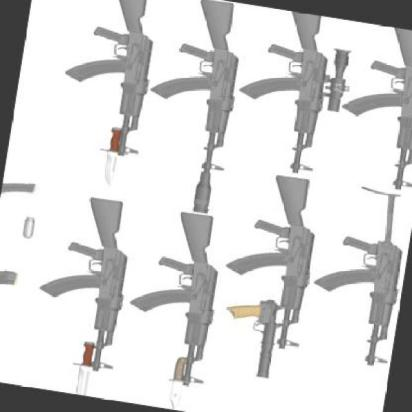Gun: (205, 167, 321, 380), (134, 0, 248, 215), (22, 188, 138, 399), (37, 0, 161, 190), (115, 206, 223, 412), (299, 178, 411, 370), (228, 6, 348, 176), (331, 20, 412, 187)
